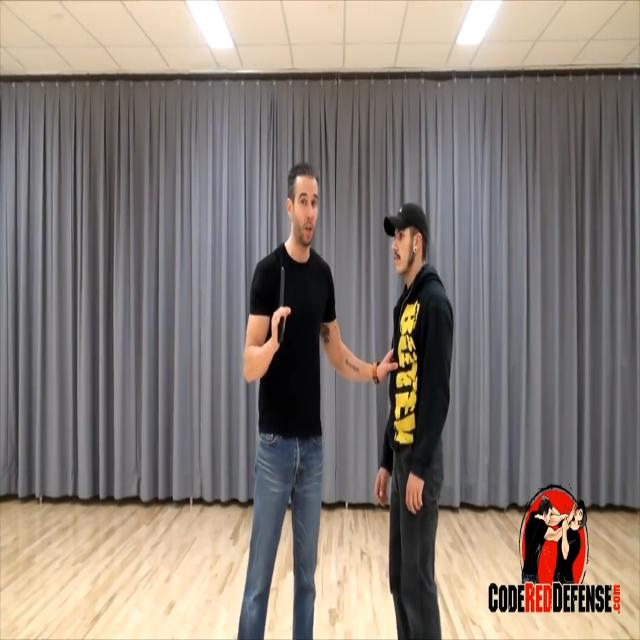knife: (278, 266, 286, 355)
